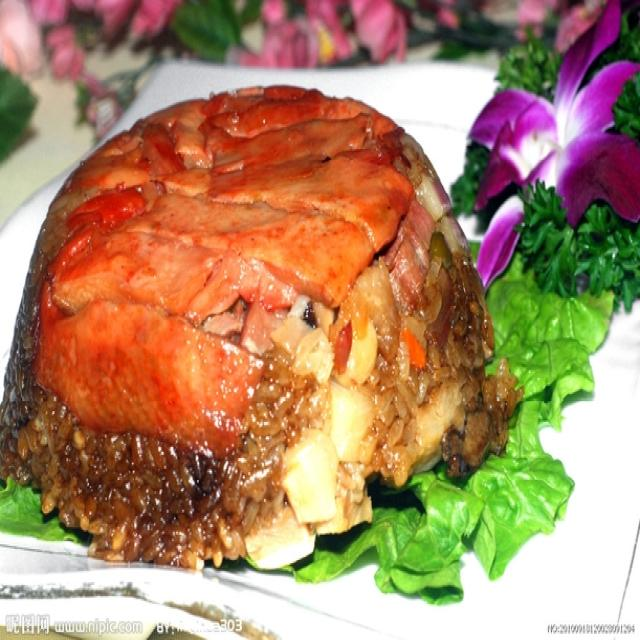米饭主食: (9, 88, 524, 577)
